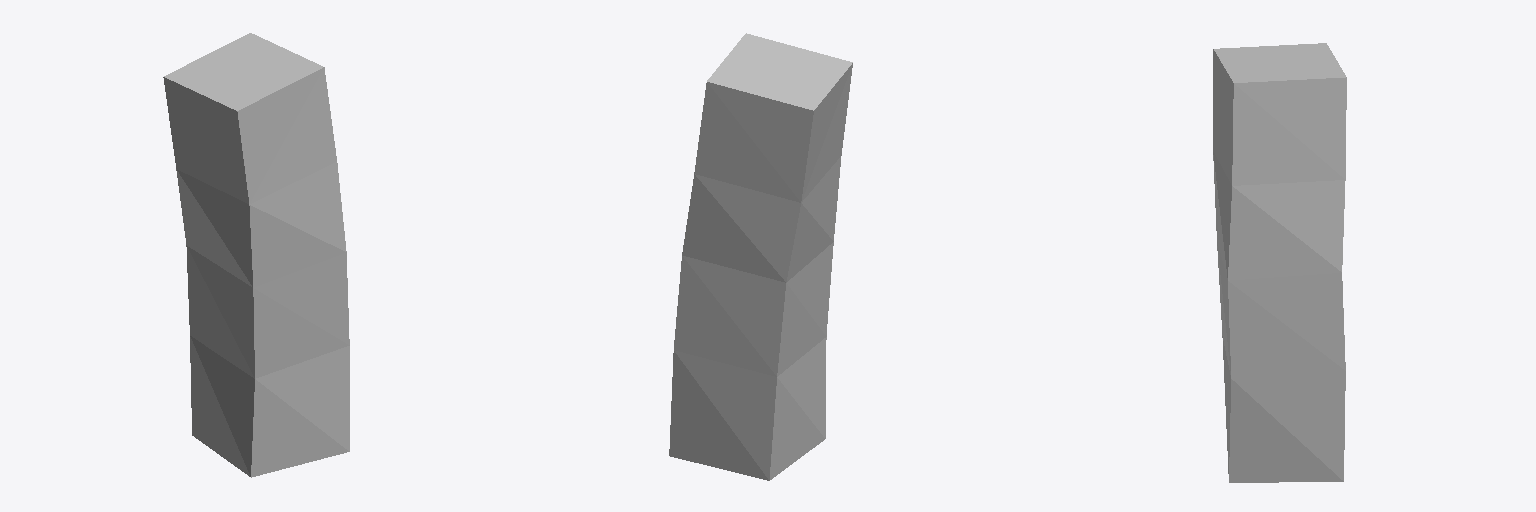
Rendered from wiggle_000039.obj.
3 renders of one model, left to right at view 1: azimuth 30°, elevation 25°; view 2: azimuth 150°, elevation 25°; view 3: azimuth 270°, elevation 25°, orthographic.
Parts seen in each view (by area): view 1: Cube; view 2: Cube; view 3: Cube.
Part boxes in pixels (x1,y1,x2,y2): Cube: (163, 33, 349, 477); Cube: (669, 33, 852, 480); Cube: (1213, 43, 1346, 482).
Bounding box in the file's own units: 2.79 × 7.48 × 2.33.